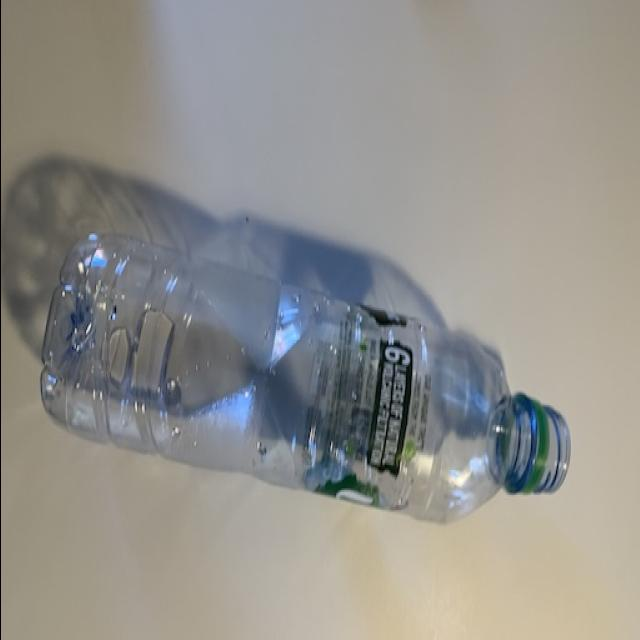litter: (35, 228, 571, 524)
